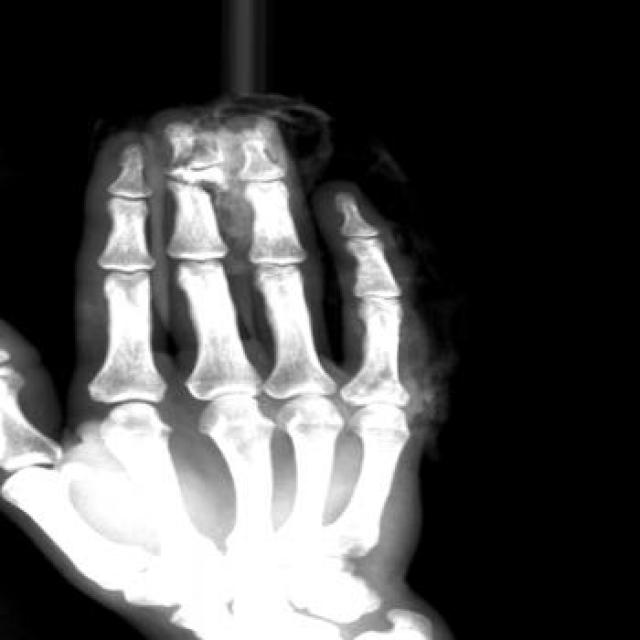Fracture: (163, 122, 236, 188)
